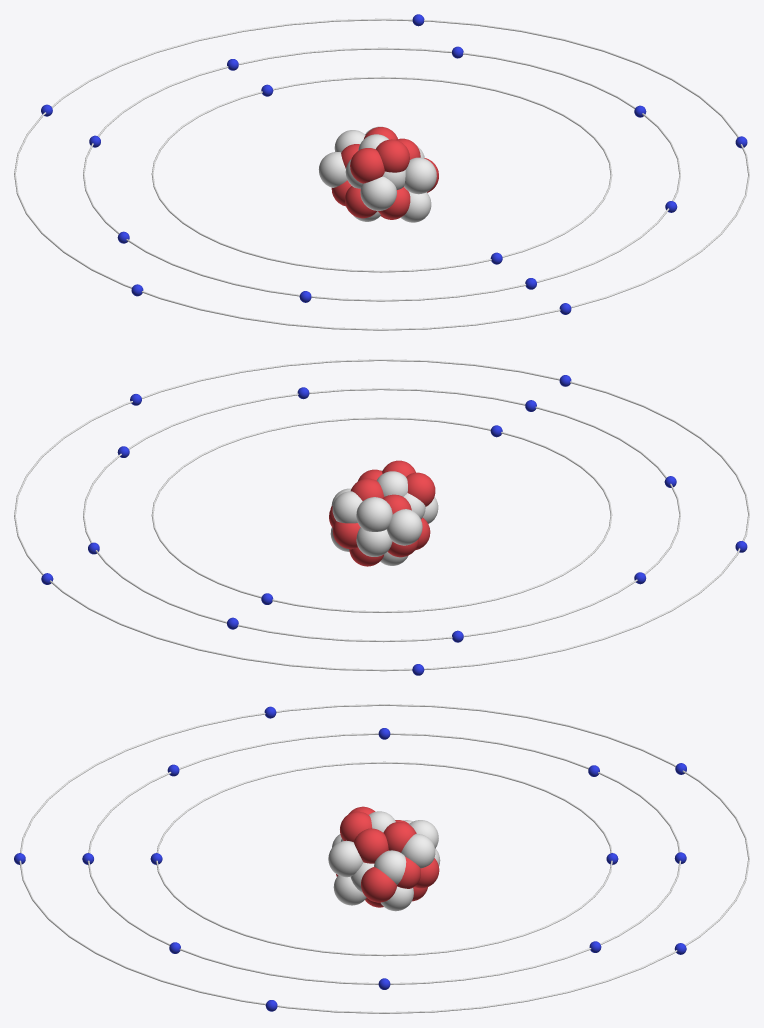
Rendered from Phosphor.glb.
3 views of the same model, one above another, from view 1: azimuth 30°, elevation 25°; view 2: azimuth 150°, elevation 25°; view 3: azimuth 270°, elevation 25° (orthographic).
Parts seen in each view (by area): view 1: M-Schale, L-Schale, K-Schale, Neutron 15, Neutron 13, Proton 14, Proton 15, Neutron 16, Neutron 14, Proton 7, Proton 10; view 2: M-Schale, L-Schale, K-Schale, Neutron 9, Neutron 16, Neutron 8, Neutron 12, Proton 14, Neutron 11, Proton 12; view 3: M-Schale, L-Schale, K-Schale, Neutron 13, Proton 11, Proton 13, Neutron 12, Neutron 6, Proton 15, Proton 6, Neutron 14, Neutron 5.
Boxes of the visible parts, x1,y1,x2,y2 form: M-Schale: (14,18,749,330); L-Schale: (83,47,680,301); K-Schale: (151,76,612,272); Neutron 15: (360,176,396,210); Neutron 13: (404,157,436,194); Proton 14: (350,148,384,183); Proton 15: (376,139,409,172); Neutron 16: (318,152,347,187); Neutron 14: (400,191,431,222); Proton 7: (345,186,377,218); Proton 10: (378,187,410,218); M-Schale: (14,359,749,671); L-Schale: (83,388,680,642); K-Schale: (151,417,612,612); Neutron 9: (356,497,392,531); Neutron 16: (386,509,422,545); Neutron 8: (356,527,392,556); Neutron 12: (332,491,362,523); Proton 14: (406,472,435,506); Neutron 11: (376,471,407,496); Proton 12: (332,521,360,549); M-Schale: (19,704,749,1013); L-Schale: (87,733,681,984); K-Schale: (156,761,612,956); Neutron 13: (328,840,363,877); Proton 11: (361,867,396,902); Proton 13: (354,828,388,863); Neutron 12: (401,834,435,868); Neutron 6: (374,850,406,884); Proton 15: (340,811,372,842); Proton 6: (383,822,416,852); Neutron 14: (333,875,366,905); Neutron 5: (381,886,413,911).
Size of the model in its own units: 16.04 by 2.13 by 16.15.
